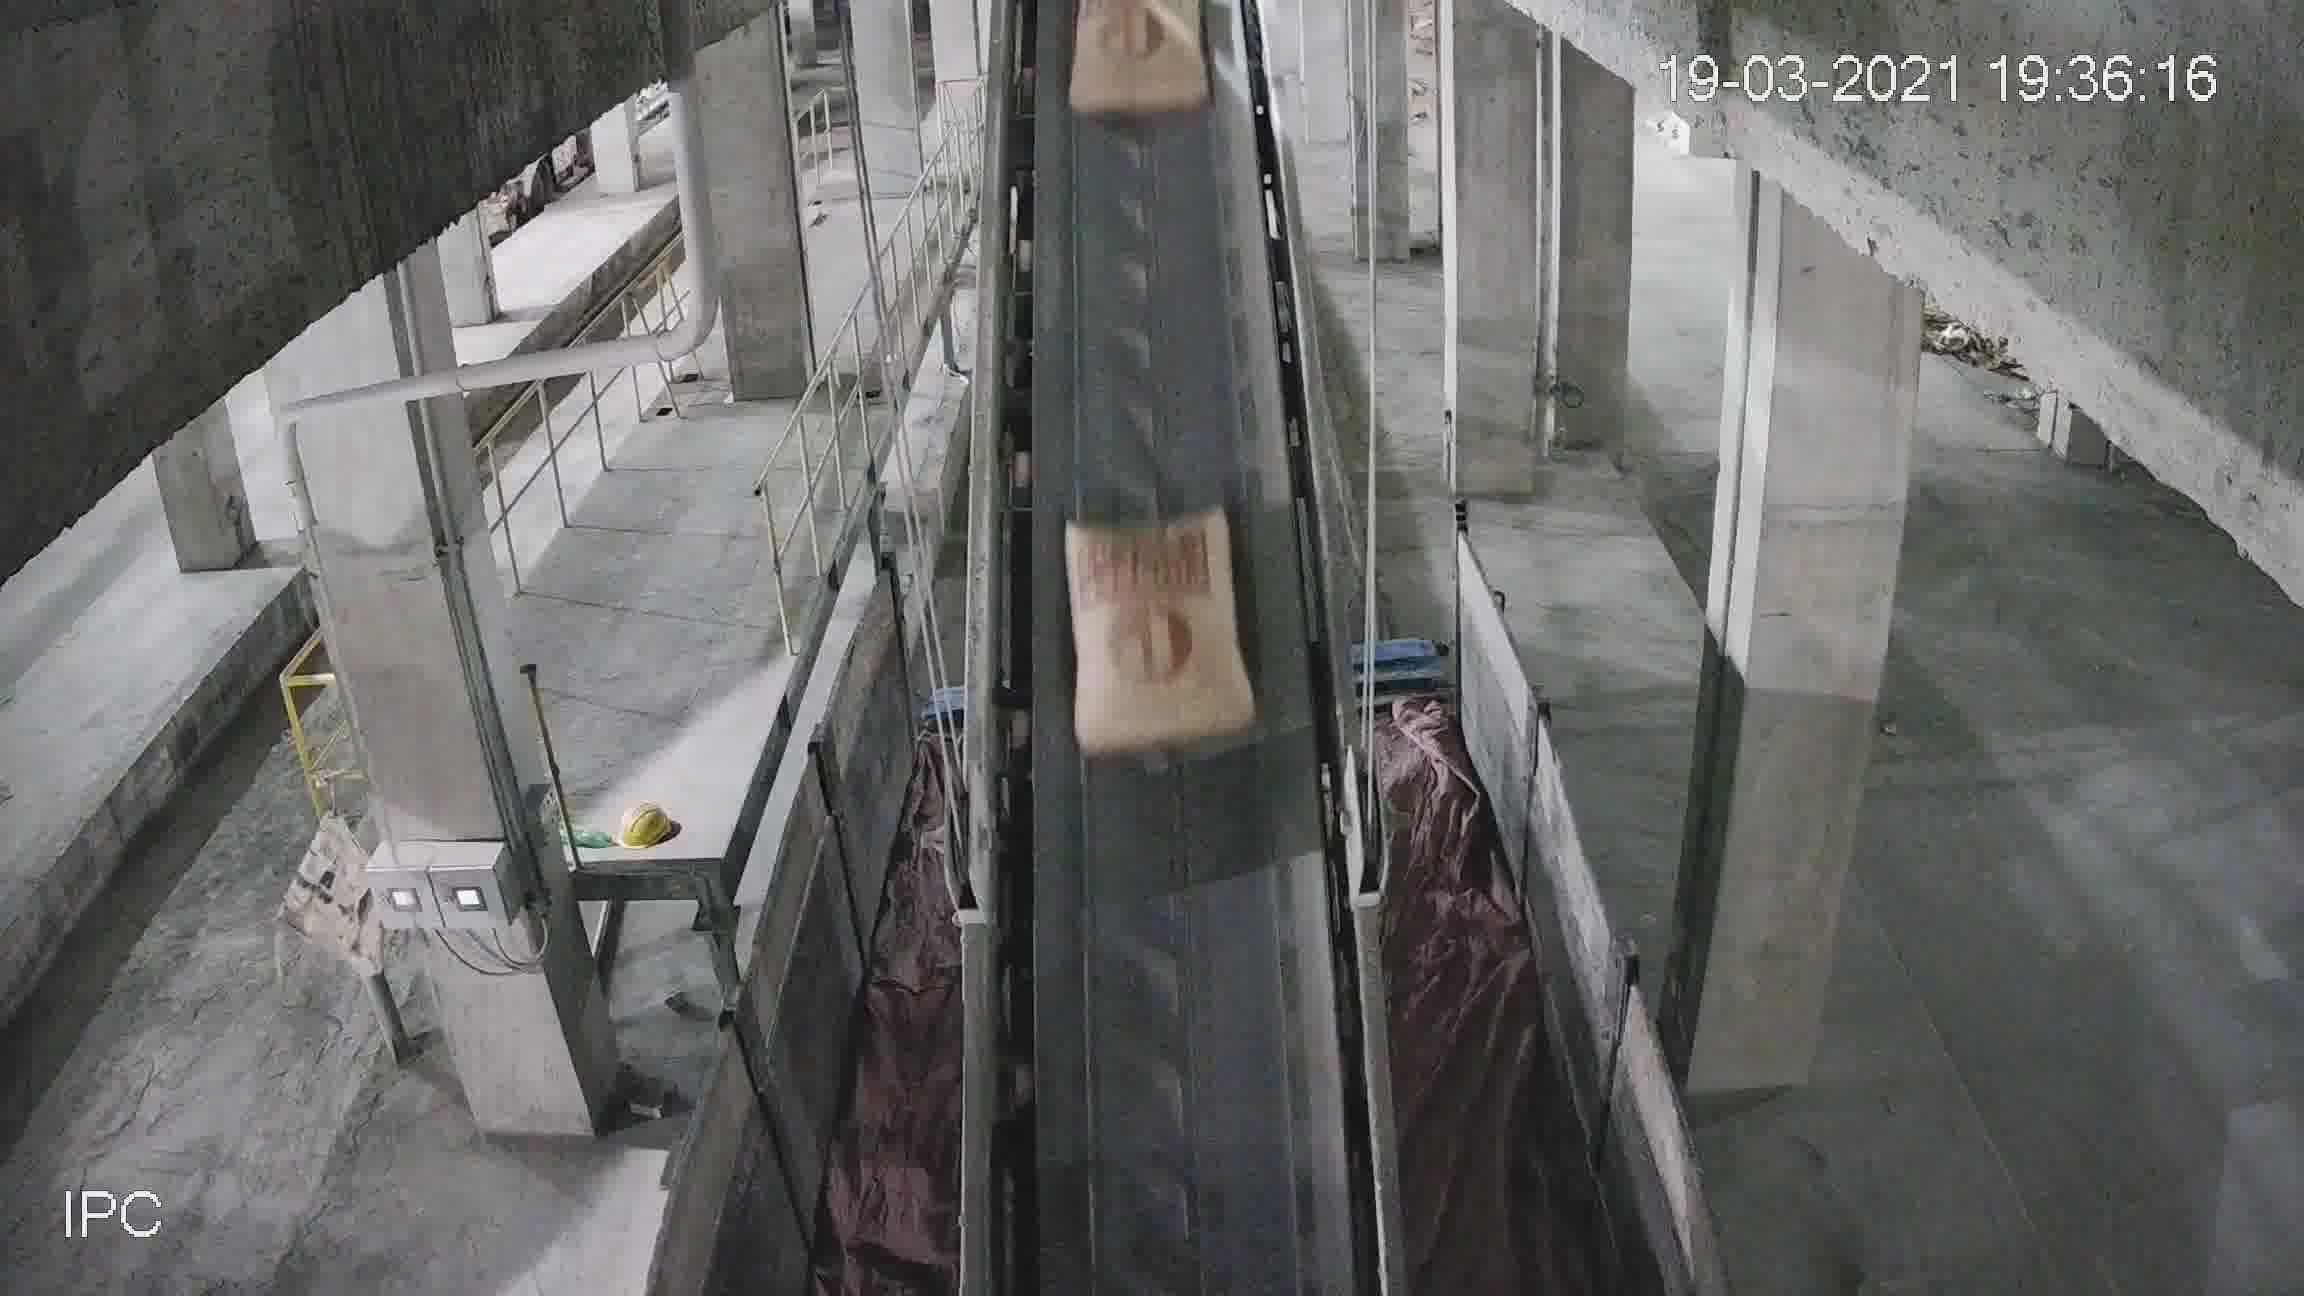bag: (1068, 510, 1244, 758), (1074, 8, 1215, 111)
belt: (978, 214, 1358, 1291)
